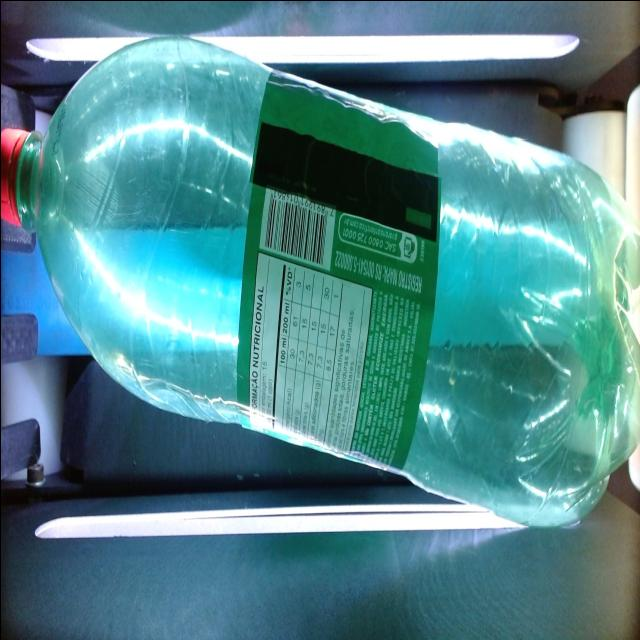bottom: (492, 139, 640, 525)
label: (236, 76, 439, 469)
neck: (0, 16, 140, 394)
